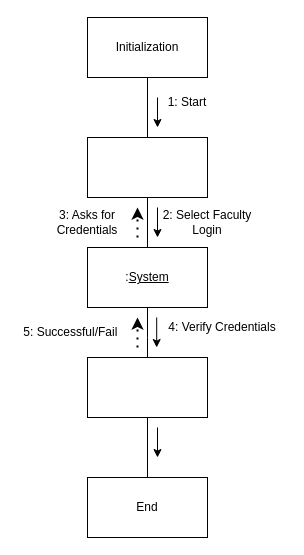
The diagram is 304 pixels wide and 555 high, and some of its shapes have lost their labels. Here are the shapes that lost their labels. From the top down, the box of each, then its label:
(86, 136, 208, 198): :Faculty
(86, 356, 208, 418): :Authentication
